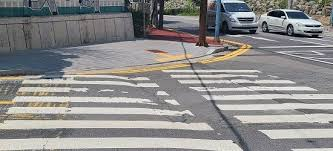guide_blocks: (157, 55, 192, 62)
